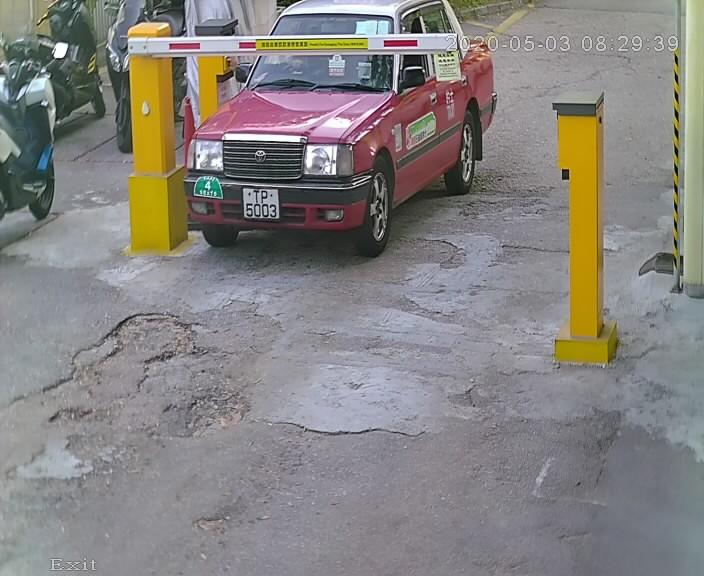Car: (166, 1, 501, 271)
License Plate: (234, 181, 285, 227)
